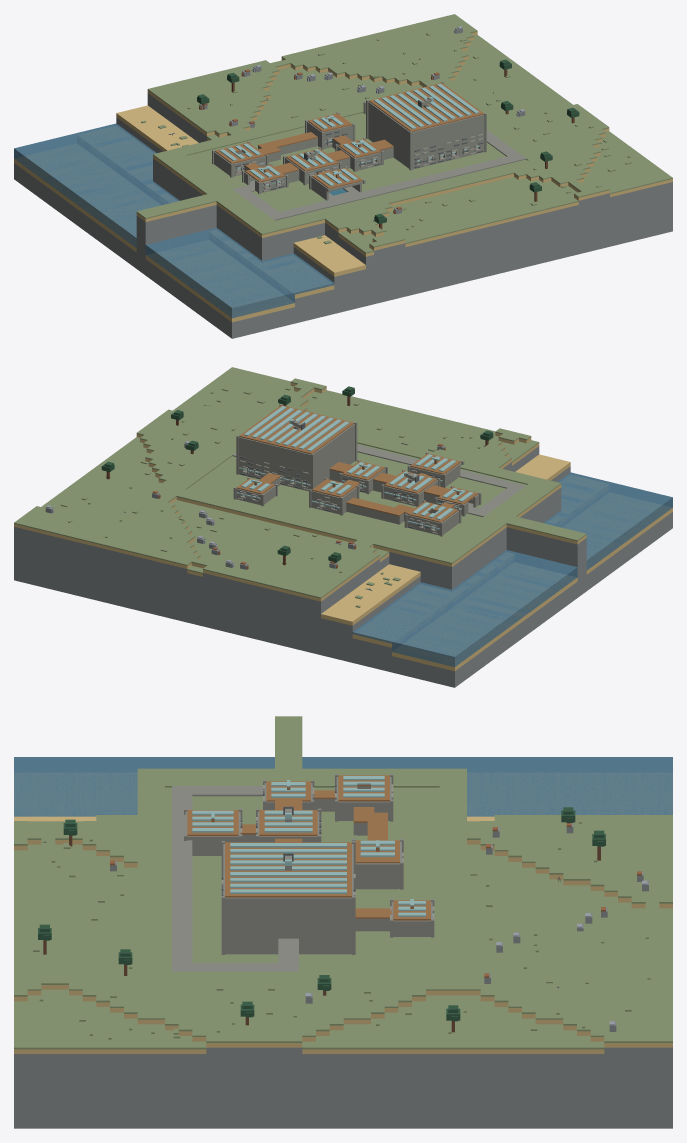
The model's file is coast.glb.
3 views of the same model, one above another, from view 1: azimuth 30°, elevation 25°; view 2: azimuth 150°, elevation 25°; view 3: azimuth 270°, elevation 25° (orthographic). The views are drawn at different scales.
Parts seen in each view (by area): view 1: coast/surface, coast/terrain, coast/watercourses, coast/coast_dungeon/room_walls, coast/coast_dungeon/roof_arena, coast/coast_dungeon/floor_mesh, coast/coast_dungeon/exterior_details, coast/vegetation, coast/coast_dungeon/corridor_walls, coast/outcrops, coast/coast_dungeon/roof_workshop, coast/coast_dungeon/roof_cistern (+3 smaller); view 2: coast/surface, coast/terrain, coast/watercourses, coast/coast_dungeon/room_walls, coast/coast_dungeon/roof_arena, coast/coast_dungeon/exterior_details, coast/vegetation, coast/coast_dungeon/floor_mesh, coast/coast_dungeon/corridor_walls, coast/outcrops, coast/coast_dungeon/roof_workshop, coast/coast_dungeon/roof_cistern (+3 smaller); view 3: coast/surface, coast/terrain, coast/watercourses, coast/coast_dungeon/room_walls, coast/coast_dungeon/roof_arena, coast/coast_dungeon/floor_mesh, coast/vegetation, coast/coast_dungeon/exterior_details, coast/coast_dungeon/roof_workshop, coast/coast_dungeon/roof_cistern, coast/coast_dungeon/roof_production, coast/outcrops (+4 smaller).
Boxes of the visible parts, box(x1,y1,x2,y2) form: coast/surface: box(14, 14, 672, 319); coast/terrain: box(14, 31, 672, 338); coast/watercourses: box(14, 123, 334, 318); coast/coast_dungeon/room_walls: box(214, 101, 484, 200); coast/coast_dungeon/roof_arena: box(369, 83, 483, 131); coast/coast_dungeon/floor_mesh: box(232, 130, 526, 220); coast/coast_dungeon/exterior_details: box(212, 81, 486, 194); coast/vegetation: box(141, 33, 632, 244); coast/coast_dungeon/corridor_walls: box(244, 138, 393, 182); coast/outcrops: box(199, 26, 525, 214); coast/coast_dungeon/roof_workshop: box(286, 148, 338, 171); coast/coast_dungeon/roof_cistern: box(312, 167, 362, 188); coast/surface: box(14, 367, 672, 668); coast/terrain: box(14, 383, 672, 687); coast/watercourses: box(352, 472, 672, 667); coast/coast_dungeon/room_walls: box(236, 424, 479, 535); coast/coast_dungeon/roof_arena: box(239, 405, 353, 454); coast/coast_dungeon/exterior_details: box(233, 404, 481, 536); coast/vegetation: box(60, 386, 501, 607); coast/coast_dungeon/floor_mesh: box(232, 444, 525, 528); coast/coast_dungeon/corridor_walls: box(271, 469, 454, 524); coast/outcrops: box(45, 441, 445, 569); coast/coast_dungeon/roof_workshop: box(384, 471, 437, 493); coast/coast_dungeon/roof_cistern: box(410, 453, 460, 474); coast/surface: box(14, 716, 672, 1049); coast/terrain: box(14, 840, 672, 1128); coast/watercourses: box(14, 757, 672, 816); coast/coast_dungeon/room_walls: box(185, 777, 432, 954); coast/coast_dungeon/roof_arena: box(225, 842, 351, 897); coast/coast_dungeon/floor_mesh: box(172, 786, 397, 971); coast/vegetation: box(33, 807, 650, 1039); coast/coast_dungeon/exterior_details: box(184, 774, 434, 954); coast/coast_dungeon/roof_workshop: box(259, 806, 317, 836); coast/coast_dungeon/roof_cistern: box(187, 810, 238, 836); coast/coast_dungeon/roof_production: box(338, 775, 389, 801); coast/outcrops: box(110, 823, 648, 1031).
Size of the model in its own units: 224 by 50.5 by 192.
